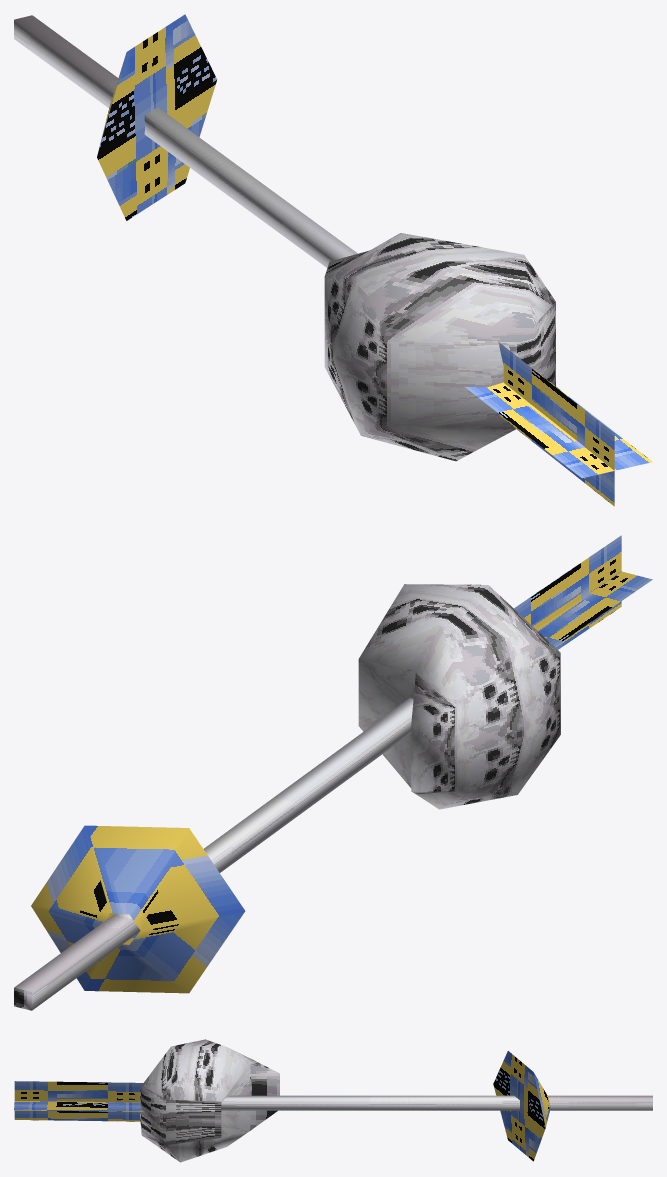
File: 06_04_stick.gltf
The picture shows the model from 3 angles, top to bottom: view 1: azimuth 30°, elevation 25°; view 2: azimuth 150°, elevation 25°; view 3: azimuth 270°, elevation 25°; orthographic projection. The views are drawn at different scales.
Parts seen in each view (by area): view 1: 06_04_stick; view 2: 06_04_stick; view 3: 06_04_stick.
Part boxes in pixels (x1=…): 06_04_stick: x1=14, y1=14, x2=652, y2=506; 06_04_stick: x1=14, y1=535, x2=652, y2=1010; 06_04_stick: x1=14, y1=1039, x2=652, y2=1162.
Size of the model in its own units: 0.27 by 0.2495 by 1.41.
2 materials, 2 textured.
